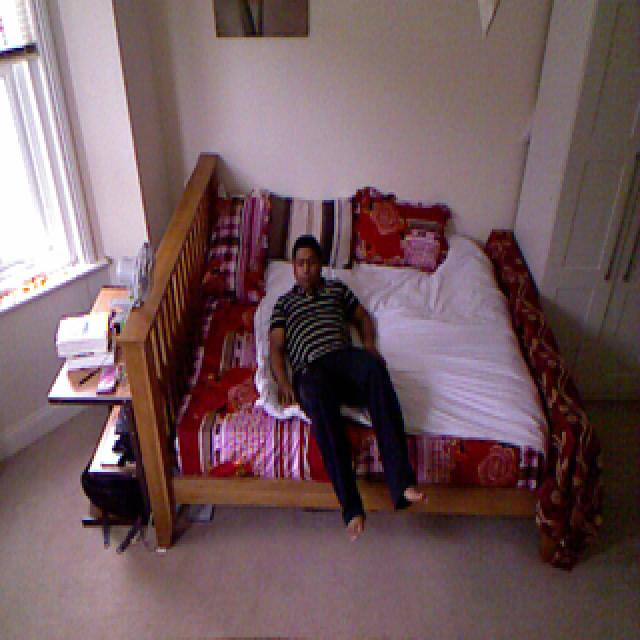lying: (267, 232, 415, 530)
